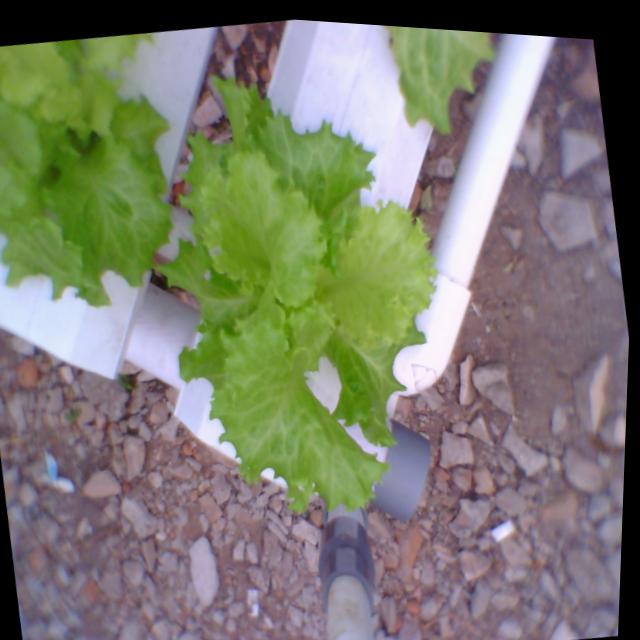FN: (132, 35, 493, 556), (0, 21, 202, 345)
